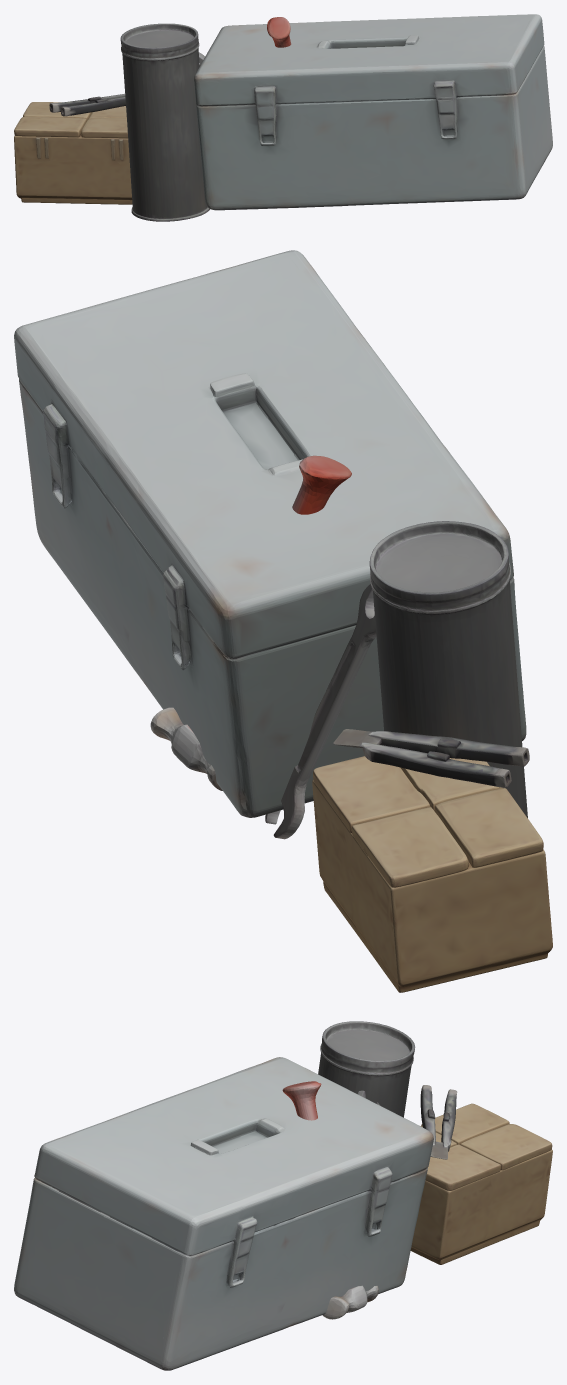
Rendered from sam3d.glb.
3 renders of one model, top to bottom at view 1: azimuth 30°, elevation 25°; view 2: azimuth 150°, elevation 25°; view 3: azimuth 270°, elevation 25°, orthographic. The views are drawn at different scales.
Visible parts, largest first — view 1: object_05, object_03, object_04, object_00, object_02; view 2: object_05, object_04, object_03, object_00, object_01, object_02; view 3: object_05, object_04, object_03, object_02, object_00.
Part boxes in pixels (box(x1,y1,x2,y2)): object_05: box(194, 14, 552, 210); object_03: box(120, 23, 209, 221); object_04: box(14, 102, 132, 204); object_00: box(49, 93, 125, 116); object_02: box(267, 17, 291, 47); object_05: box(14, 250, 526, 817); object_04: box(312, 756, 552, 992); object_03: box(369, 521, 527, 817); object_00: box(333, 729, 529, 787); object_01: box(265, 584, 376, 839); object_02: box(150, 455, 351, 790); object_05: box(14, 1057, 433, 1370); object_04: box(410, 1103, 552, 1264); object_03: box(318, 1021, 415, 1117); object_02: box(282, 1081, 378, 1319); object_00: box(420, 1085, 457, 1159).
Bounding box in the file's own units: 0.8045 × 0.3686 × 0.7623.
